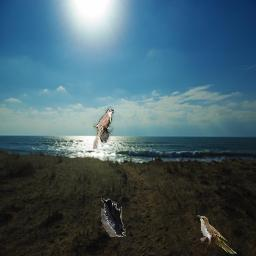Crow: (101, 197, 126, 237)
Cuckoo: (197, 215, 237, 254), (93, 109, 114, 149)
